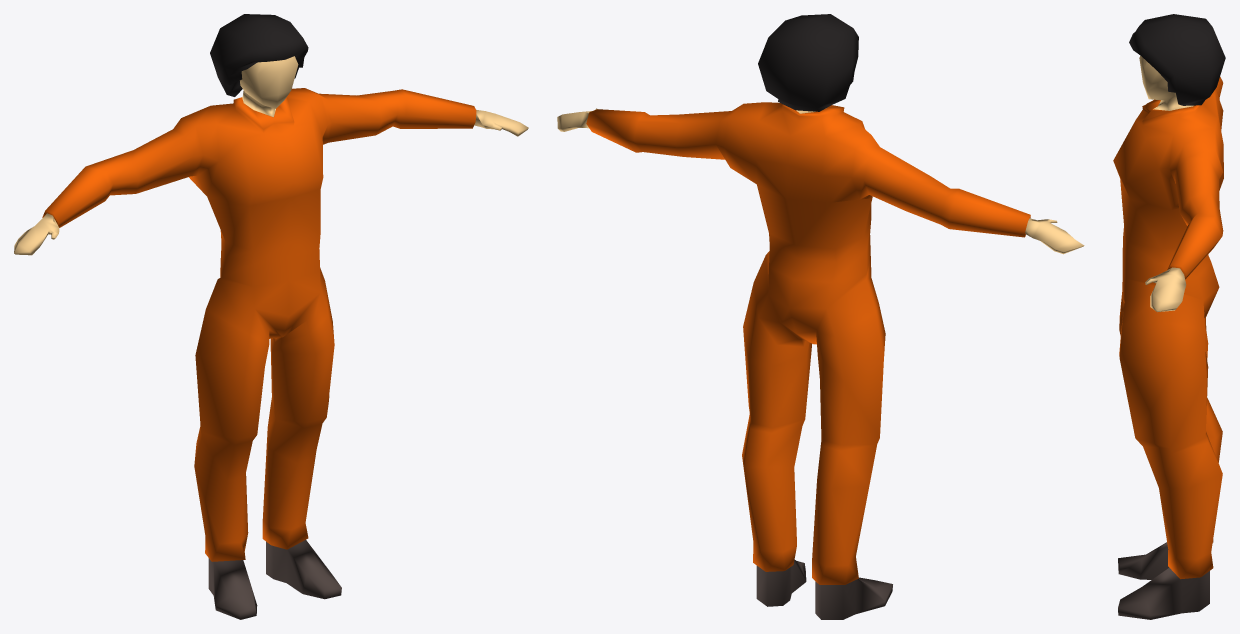
The model's file is criminal.fbx.
The picture shows the model from 3 angles, left to right: view 1: azimuth 30°, elevation 25°; view 2: azimuth 150°, elevation 25°; view 3: azimuth 270°, elevation 25°; orthographic projection. The views are drawn at different scales.
Parts seen in each view (by area): view 1: Cube.001; view 2: Cube.001; view 3: Cube.001.
Boxes of the visible parts, <box> form: Cube.001: <box>14,14,528,619</box>; Cube.001: <box>557,14,1084,619</box>; Cube.001: <box>1113,14,1225,619</box>.
Size of the model in its own units: 175 by 184 by 32.77.
